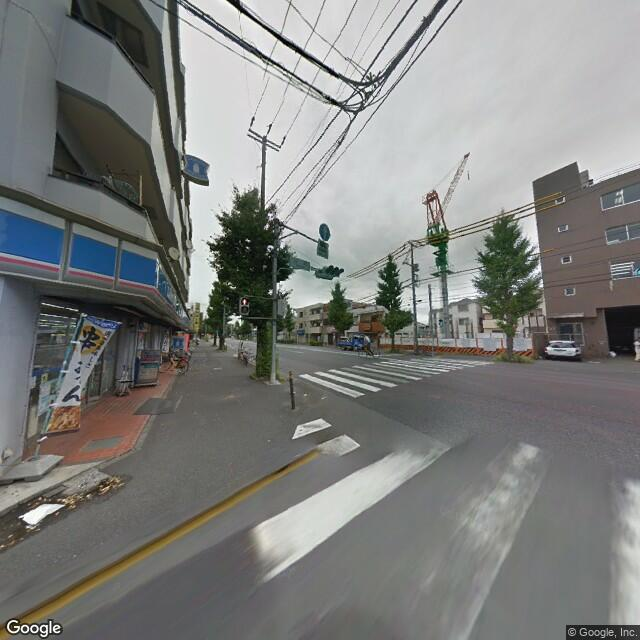lawson: (2, 194, 189, 333), (181, 152, 213, 186), (171, 333, 184, 353)
